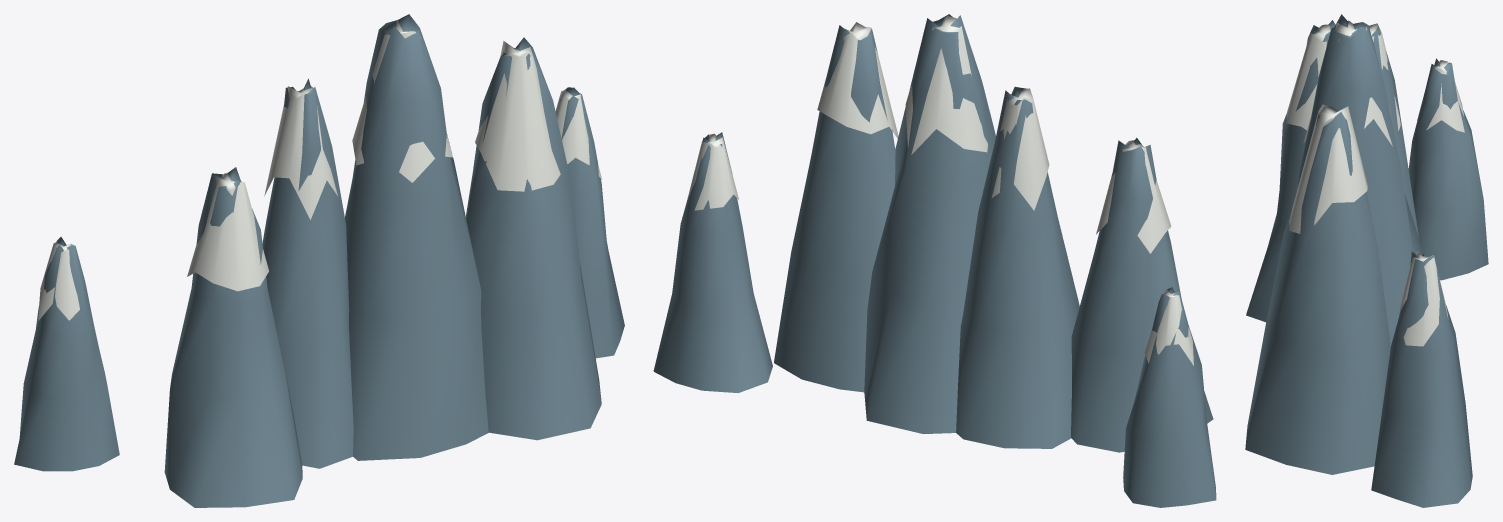
File: snowMassif.glb
3 renders of one model, left to right at view 1: azimuth 30°, elevation 25°; view 2: azimuth 150°, elevation 25°; view 3: azimuth 270°, elevation 25°, orthographic. The views are drawn at different scales.
Visible parts, largest first — view 1: snow-massif-peak-3-rock, snow-massif-peak-4-rock, snow-massif-peak-1-rock, snow-massif-peak-2-rock, snow-massif-peak-0-rock, snow-massif-peak-4-snow-cap, snow-massif-peak-5-rock, snow-massif-peak-1-snow-cap, snow-massif-peak-2-snow-cap, snow-massif-peak-3-snow-cap, snow-massif-peak-0-snow-cap, snow-massif-peak-5-snow-cap; view 2: snow-massif-peak-3-rock, snow-massif-peak-2-rock, snow-massif-peak-4-rock, snow-massif-peak-1-rock, snow-massif-peak-5-rock, snow-massif-peak-0-rock, snow-massif-peak-3-snow-cap, snow-massif-peak-4-snow-cap, snow-massif-peak-2-snow-cap, snow-massif-peak-5-snow-cap, snow-massif-peak-1-snow-cap, snow-massif-peak-0-snow-cap; view 3: snow-massif-peak-4-rock, snow-massif-peak-5-rock, snow-massif-peak-3-rock, snow-massif-peak-0-rock, snow-massif-peak-1-rock, snow-massif-peak-4-snow-cap, snow-massif-peak-5-snow-cap, snow-massif-peak-1-snow-cap, snow-massif-peak-2-rock, snow-massif-peak-0-snow-cap, snow-massif-peak-3-snow-cap, snow-massif-peak-2-snow-cap.
Part boxes in pixels (x1,y1,x2,y2): snow-massif-peak-3-rock: (345, 14, 488, 460); snow-massif-peak-4-rock: (466, 37, 601, 440); snow-massif-peak-1-rock: (164, 167, 302, 507); snow-massif-peak-2-rock: (262, 78, 353, 468); snow-massif-peak-0-rock: (14, 237, 119, 471); snow-massif-peak-4-snow-cap: (475, 41, 560, 191); snow-massif-peak-5-rock: (560, 87, 624, 358); snow-massif-peak-1-snow-cap: (187, 173, 268, 291); snow-massif-peak-2-snow-cap: (264, 86, 338, 219); snow-massif-peak-3-snow-cap: (352, 20, 452, 182); snow-massif-peak-0-snow-cap: (38, 242, 90, 320); snow-massif-peak-5-snow-cap: (555, 90, 601, 179); snow-massif-peak-3-rock: (864, 14, 995, 433); snow-massif-peak-2-rock: (956, 86, 1079, 448); snow-massif-peak-4-rock: (774, 25, 895, 392); snow-massif-peak-1-rock: (1071, 137, 1213, 452); snow-massif-peak-5-rock: (653, 132, 772, 393); snow-massif-peak-0-rock: (1123, 287, 1216, 507); snow-massif-peak-3-snow-cap: (905, 15, 987, 154); snow-massif-peak-4-snow-cap: (817, 22, 898, 138); snow-massif-peak-2-snow-cap: (991, 88, 1049, 210); snow-massif-peak-5-snow-cap: (687, 133, 738, 210); snow-massif-peak-1-snow-cap: (1096, 140, 1171, 253); snow-massif-peak-0-snow-cap: (1144, 289, 1193, 365); snow-massif-peak-4-rock: (1245, 106, 1390, 474); snow-massif-peak-5-rock: (1371, 251, 1472, 507); snow-massif-peak-3-rock: (1298, 14, 1423, 347); snow-massif-peak-0-rock: (1408, 58, 1488, 280); snow-massif-peak-1-rock: (1246, 20, 1335, 322); snow-massif-peak-4-snow-cap: (1289, 104, 1368, 233); snow-massif-peak-5-snow-cap: (1399, 251, 1448, 346); snow-massif-peak-1-snow-cap: (1286, 24, 1330, 130); snow-massif-peak-2-rock: (1371, 26, 1418, 237); snow-massif-peak-0-snow-cap: (1417, 60, 1464, 132); snow-massif-peak-3-snow-cap: (1303, 20, 1392, 146); snow-massif-peak-2-snow-cap: (1369, 23, 1400, 130).
Bounding box in the file's own units: 142 × 89.94 × 53.45.
